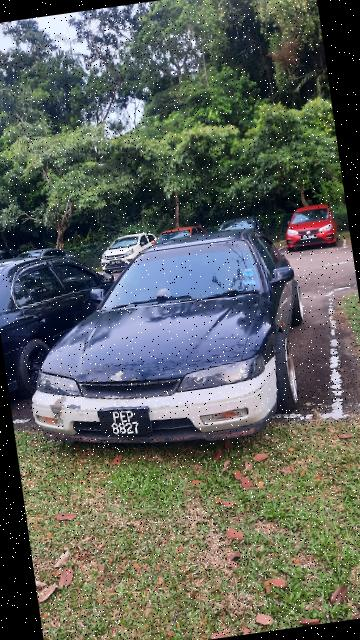License_Plate: (96, 399, 158, 446)
car: (1, 216, 320, 473), (1, 232, 130, 396), (274, 193, 344, 254), (101, 221, 160, 275)
